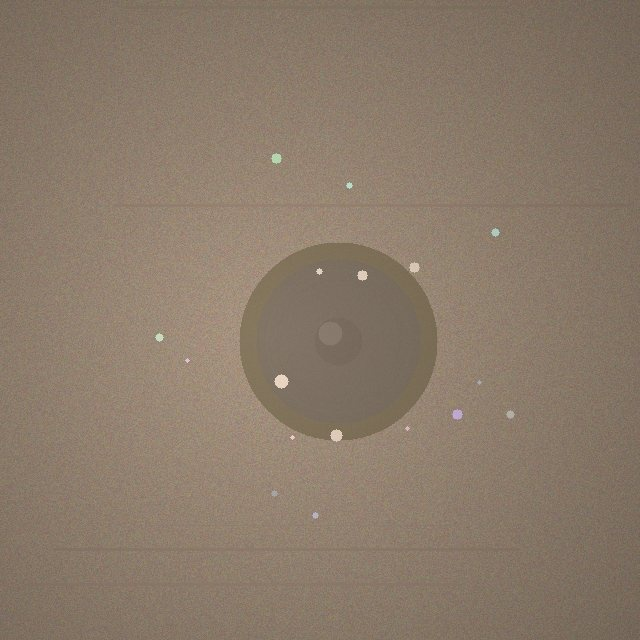overburn: (239, 242, 437, 440)
